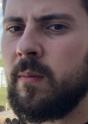without_mask: (1, 2, 88, 124)
